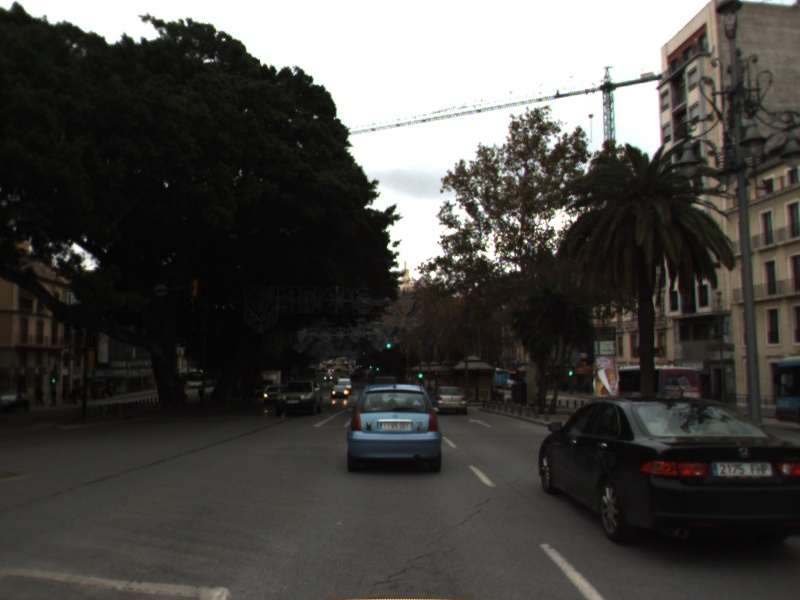STRAIGHT: (466, 416, 495, 430)
